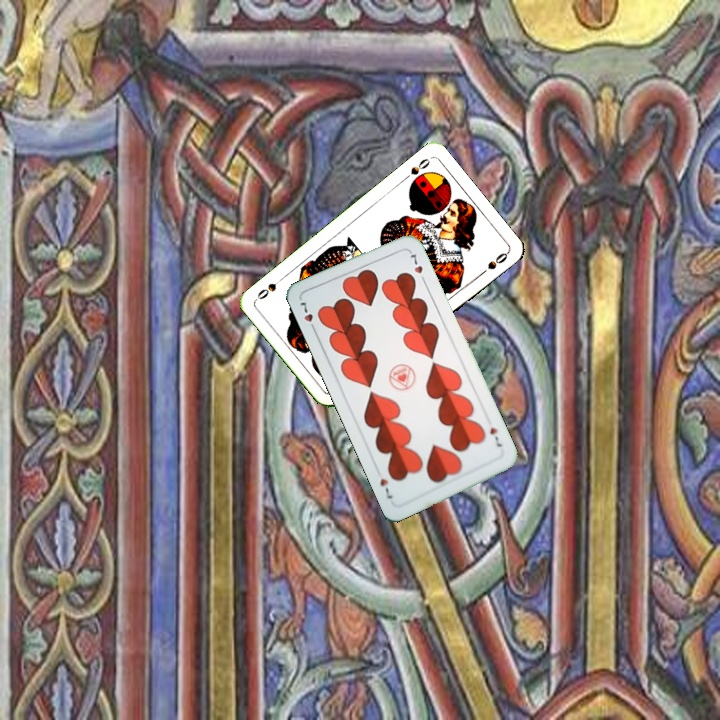H7: (296, 296, 319, 335), (486, 423, 504, 450)
SO: (399, 154, 433, 183)
